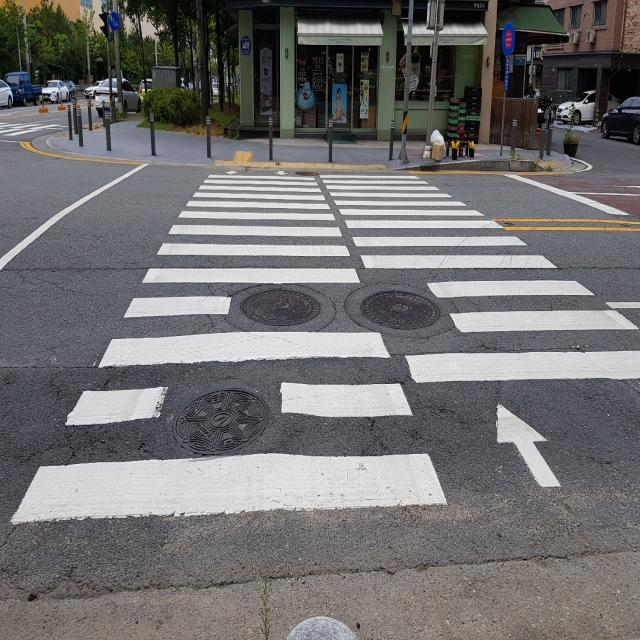횡단보도: (7, 156, 640, 533)
